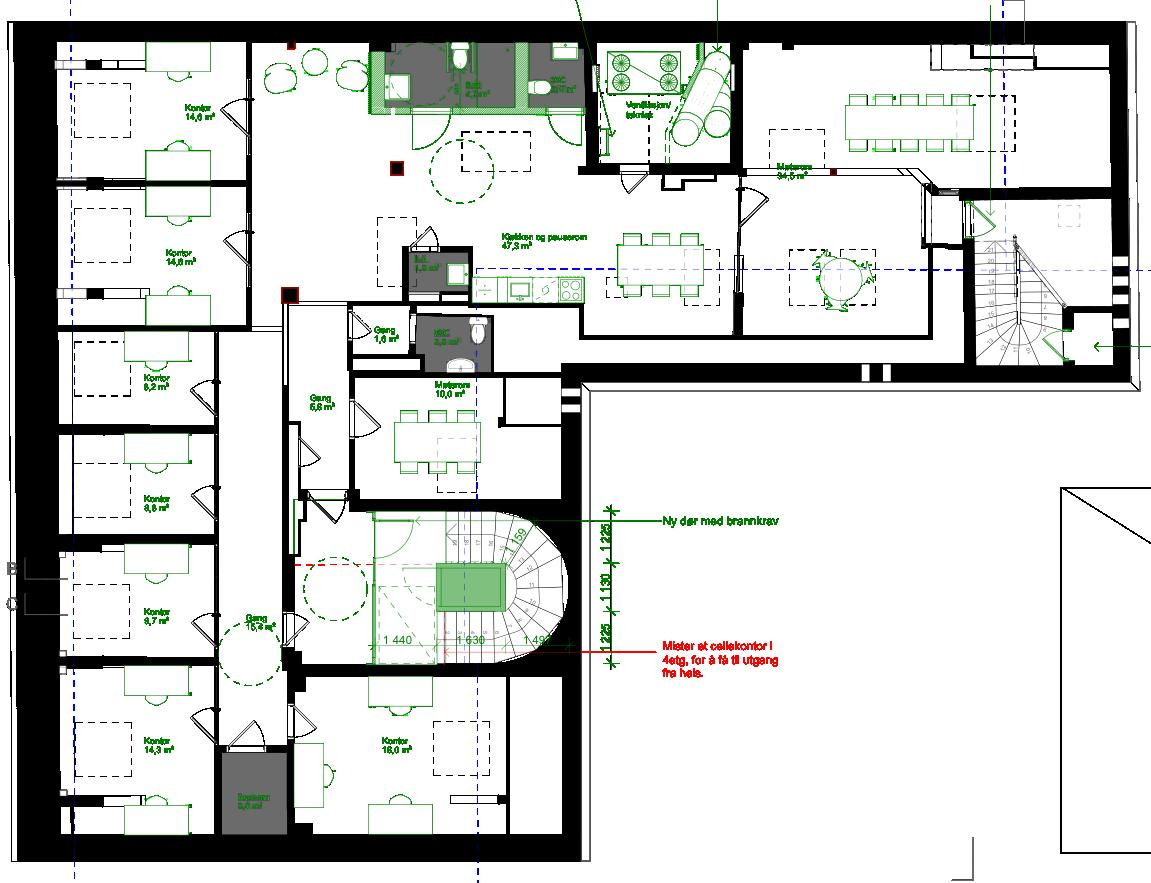room: (737, 38, 1114, 192), (290, 670, 568, 842), (375, 505, 569, 668), (48, 661, 218, 840), (47, 33, 249, 183), (49, 182, 249, 328), (353, 373, 567, 504), (969, 191, 1118, 373), (48, 538, 217, 661), (590, 36, 735, 168), (48, 430, 216, 539), (49, 328, 217, 429), (287, 500, 374, 669), (376, 37, 520, 111), (519, 37, 589, 111), (414, 310, 493, 374), (406, 249, 471, 303), (350, 303, 412, 356)
